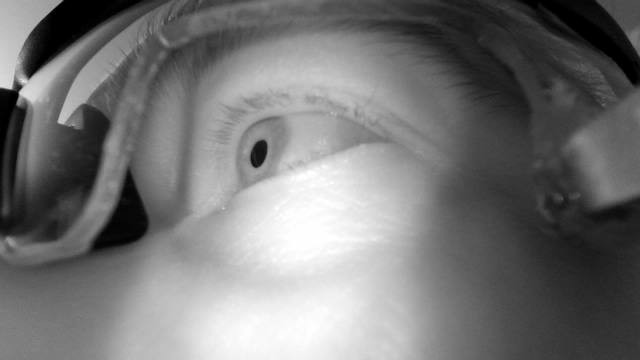pupil: (249, 139, 268, 169)
